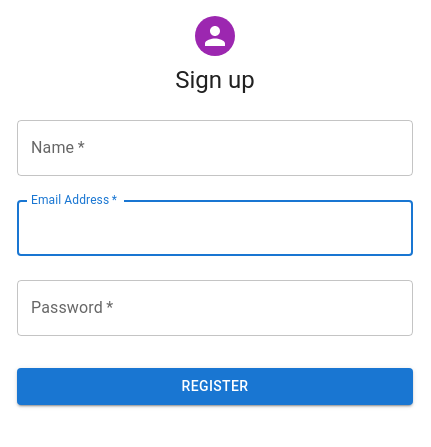
renders the error message for email if invalid email given
In the field named "email": (215, 228) 17,200 -> 413,256, type "not email"
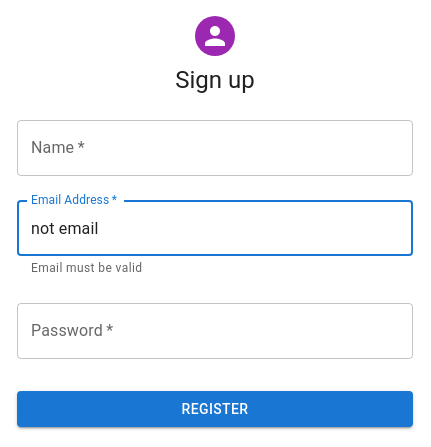
Check: the text with id "email-helper-text" reads "Email must be valid", box 31,261 -> 143,275
